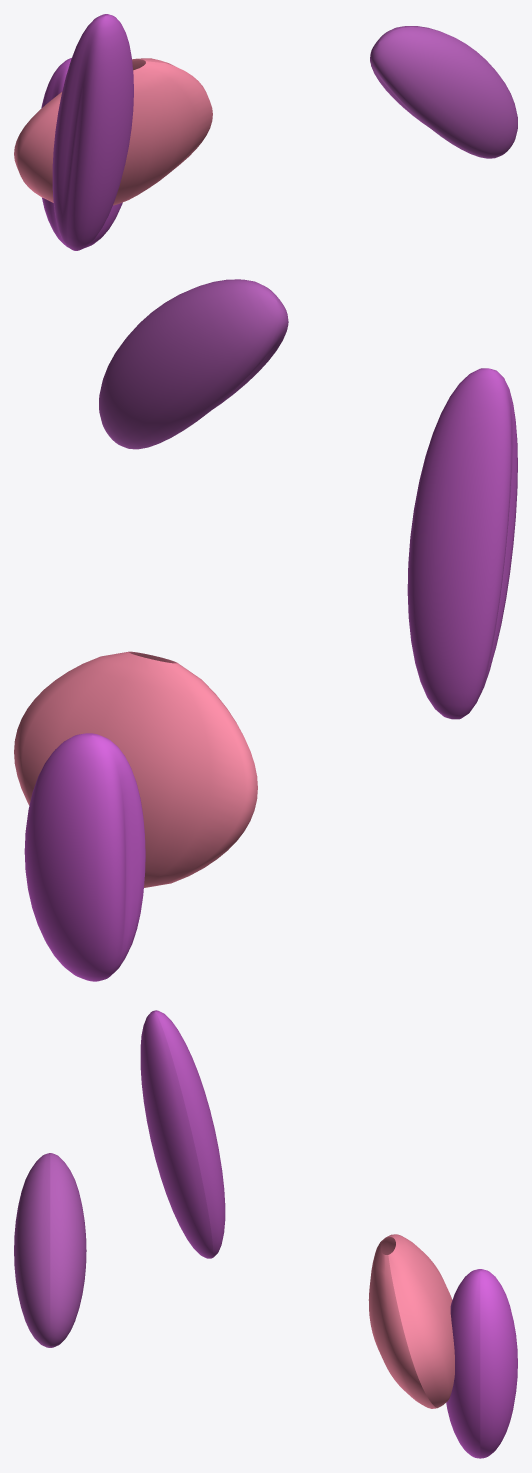
The model's file is urogenital.glb.
The picture shows the model from 3 angles, top to bottom: view 1: azimuth 30°, elevation 25°; view 2: azimuth 150°, elevation 25°; view 3: azimuth 270°, elevation 25°; orthographic projection. The views are drawn at different scales.
Parts seen in each view (by area): view 1: Mesh_Equine_RenSinister, Mesh_Equine_RenDexter, Mesh_Equine_UterusBicornis, Mesh_Equine_VesicaUrinaria; view 2: Mesh_Equine_UterusBicornis, Mesh_Equine_RenSinister, Mesh_Equine_VesicaUrinaria, Mesh_Equine_RenDexter; view 3: Mesh_Equine_RenSinister, Mesh_Equine_UterusBicornis, Mesh_Equine_RenDexter, Mesh_Equine_VesicaUrinaria.
Part boxes in pixels (<box>): Mesh_Equine_RenSinister: <box>52,14,133,250</box>; Mesh_Equine_RenDexter: <box>370,26,517,158</box>; Mesh_Equine_UterusBicornis: <box>14,58,212,205</box>; Mesh_Equine_VesicaUrinaria: <box>41,58,122,247</box>; Mesh_Equine_UterusBicornis: <box>14,651,257,887</box>; Mesh_Equine_RenSinister: <box>407,368,517,719</box>; Mesh_Equine_VesicaUrinaria: <box>24,733,145,981</box>; Mesh_Equine_RenDexter: <box>99,279,288,449</box>; Mesh_Equine_RenSinister: <box>140,1010,225,1258</box>; Mesh_Equine_UterusBicornis: <box>368,1234,454,1408</box>; Mesh_Equine_RenDexter: <box>14,1153,86,1347</box>; Mesh_Equine_VesicaUrinaria: <box>446,1269,517,1458</box>.
Bounding box in the file's own units: 0.653 × 0.6288 × 0.7618.
